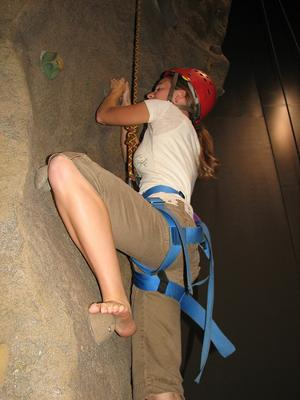person: (47, 66, 217, 400)
